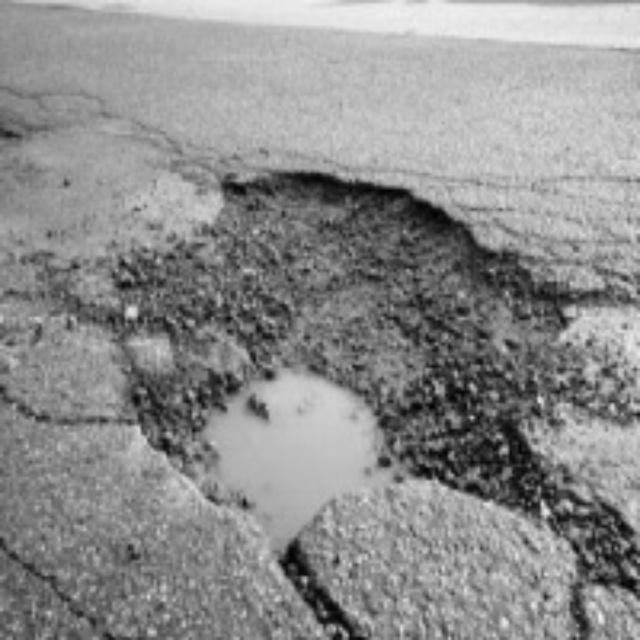Pothole: (150, 196, 557, 517)
